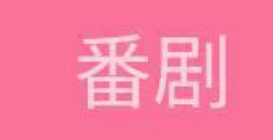TextView: (1, 1, 272, 139)
